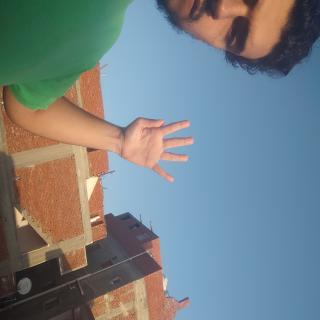SHEEN: (86, 167, 138, 275)
